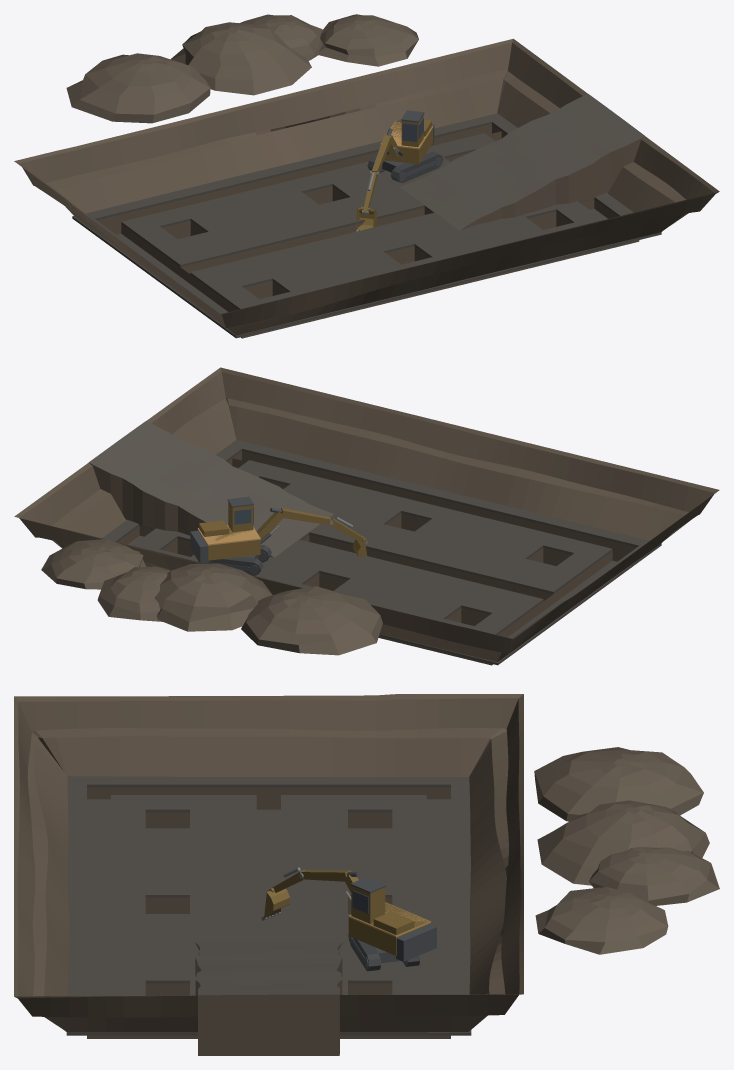
File: excavation_layer.glb
3 views of the same model, one above another, from view 1: azimuth 30°, elevation 25°; view 2: azimuth 150°, elevation 25°; view 3: azimuth 270°, elevation 25° (orthographic). The views are drawn at different scales.
Parts seen in each view (by area): view 1: EXCAVATION_SIDES, EXCAVATION_FLOOR, ACCESS_RAMP, SOIL_PILE_02, SOIL_PILE_01, SOIL_PILE_03, TRENCH_PERIMETER_N, TRENCH_GRID_AXIS, TRENCH_PERIMETER_W, UPPER_BODY, TRENCH_PERIMETER_S, LEFT_TRACK (+1 smaller); view 2: EXCAVATION_SIDES, EXCAVATION_FLOOR, ACCESS_RAMP, SOIL_PILE_02, SOIL_PILE_01, SOIL_PILE_03, TRENCH_PERIMETER_S, UPPER_BODY, TRENCH_GRID_AXIS, TRENCH_PERIMETER_W, CAB, BOOM (+1 smaller); view 3: EXCAVATION_SIDES, EXCAVATION_FLOOR, ACCESS_RAMP, SOIL_PILE_02, SOIL_PILE_01, SOIL_PILE_03, TRENCH_PERIMETER_S, TRENCH_PERIMETER_N, UPPER_BODY, TRENCH_GRID_AXIS, TRENCH_PERIMETER_W, CAB (+7 smaller).
Part boxes in pixels (left/top/right/bottom): EXCAVATION_SIDES: left=14, top=38, right=719, bottom=335; EXCAVATION_FLOOR: left=72, top=113, right=661, bottom=338; ACCESS_RAMP: left=400, top=94, right=644, bottom=230; SOIL_PILE_02: left=170, top=14, right=322, bottom=95; SOIL_PILE_01: left=66, top=53, right=210, bottom=123; SOIL_PILE_03: left=318, top=14, right=418, bottom=66; TRENCH_PERIMETER_N: left=97, top=124, right=501, bottom=234; TRENCH_GRID_AXIS: left=180, top=207, right=431, bottom=278; TRENCH_PERIMETER_W: left=108, top=224, right=237, bottom=313; UPPER_BODY: left=380, top=120, right=434, bottom=164; TRENCH_PERIMETER_S: left=241, top=240, right=639, bottom=338; LEFT_TRACK: left=390, top=152, right=443, bottom=183; EXCAVATION_SIDES: left=14, top=367, right=719, bottom=661; EXCAVATION_FLOOR: left=102, top=439, right=661, bottom=665; ACCESS_RAMP: left=88, top=421, right=333, bottom=557; SOIL_PILE_02: left=97, top=563, right=272, bottom=631; SOIL_PILE_01: left=241, top=586, right=382, bottom=655; SOIL_PILE_03: left=41, top=539, right=145, bottom=589; TRENCH_PERIMETER_S: left=232, top=451, right=636, bottom=561; UPPER_BODY: left=190, top=520, right=260, bottom=563; TRENCH_GRID_AXIS: left=302, top=534, right=553, bottom=610; TRENCH_PERIMETER_W: left=498, top=551, right=626, bottom=638; CAB: left=227, top=496, right=253, bottom=532; BOOM: left=256, top=508, right=333, bottom=538; EXCAVATION_SIDES: left=14, top=694, right=523, bottom=1032; EXCAVATION_FLOOR: left=66, top=776, right=471, bottom=1035; ACCESS_RAMP: left=195, top=942, right=342, bottom=1055; SOIL_PILE_02: left=537, top=800, right=719, bottom=905; SOIL_PILE_01: left=534, top=747, right=703, bottom=821; SOIL_PILE_03: left=535, top=887, right=668, bottom=954; TRENCH_PERIMETER_S: left=87, top=787, right=110, bottom=1038; TRENCH_PERIMETER_N: left=426, top=787, right=450, bottom=1038; UPPER_BODY: left=348, top=902, right=436, bottom=961; TRENCH_GRID_AXIS: left=256, top=798, right=280, bottom=941; TRENCH_PERIMETER_W: left=111, top=787, right=426, bottom=809; CAB: left=350, top=877, right=385, bottom=923.
Size of the model in its own units: 35.2 by 6.84 by 34.89.
